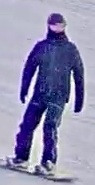snowboarder: (0, 13, 85, 182)
